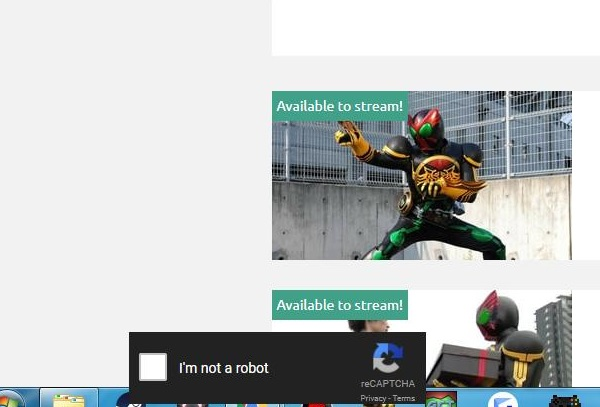captcha: (138, 352, 275, 381)
